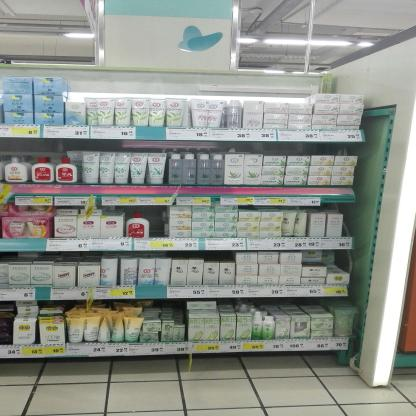Void: (265, 144, 358, 156), (12, 252, 100, 264), (142, 300, 185, 317), (308, 252, 346, 266), (152, 208, 166, 238), (207, 252, 231, 261)
